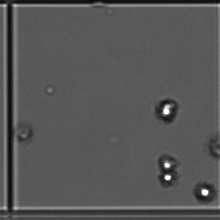Dead Cell: (16, 122, 35, 145)
Living Cell: (192, 179, 214, 203), (156, 95, 177, 119), (161, 169, 177, 194), (159, 151, 175, 169)
